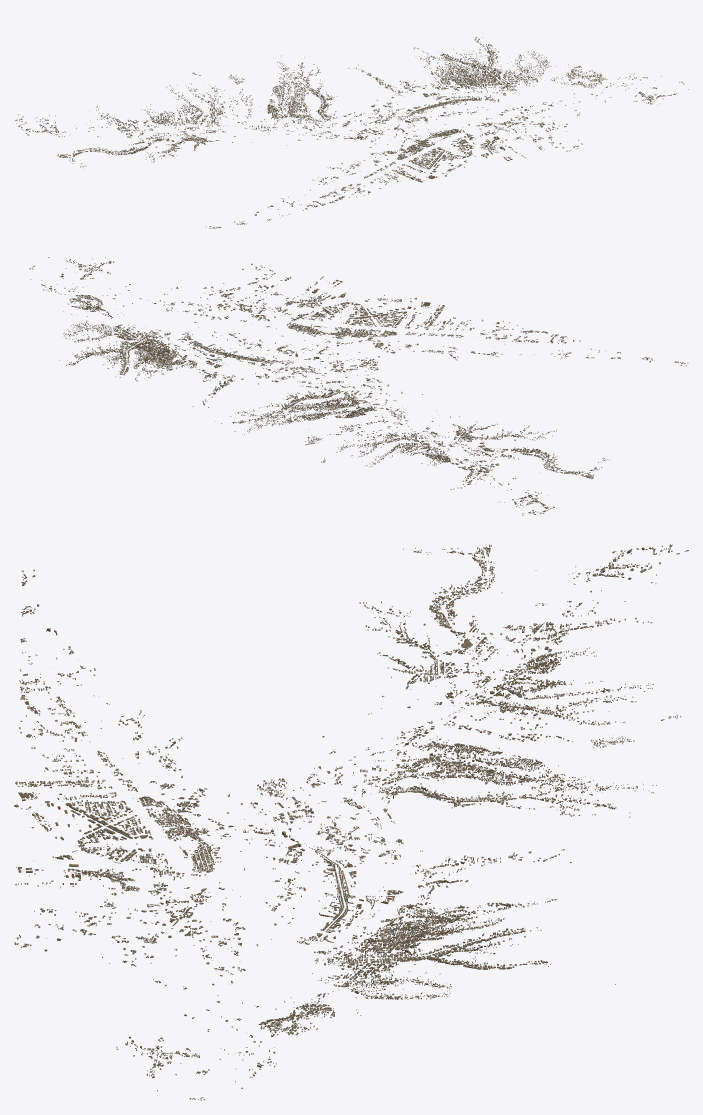
The model's file is buildings.glb.
3 renders of one model, top to bottom at view 1: azimuth 30°, elevation 25°; view 2: azimuth 150°, elevation 25°; view 3: azimuth 270°, elevation 25°, orthographic. The views are drawn at different scales.
Visible parts, largest first — view 1: Buildings_4_0Export, Buildings_3_0Export, Buildings_-2_0Export, Buildings_4_-1Export; view 2: Buildings_4_0Export, Buildings_0_-4Export, Buildings_4_-1Export, Buildings_3_0Export, Buildings_-2_0Export; view 3: Buildings_4_0Export, Buildings_-2_0Export, Buildings_3_0Export, Buildings_4_-1Export, Buildings_0_-4Export, Buildings_5_-1Export, Buildings_-2_1Export, Buildings_-1_1Export.
Part boxes in pixels (bbox=[...]): Buildings_4_0Export: bbox=[453, 59, 499, 82]; Buildings_3_0Export: bbox=[431, 65, 468, 89]; Buildings_-2_0Export: bbox=[272, 102, 315, 124]; Buildings_4_-1Export: bbox=[470, 75, 515, 96]; Buildings_4_0Export: bbox=[113, 342, 164, 362]; Buildings_0_-4Export: bbox=[335, 316, 385, 339]; Buildings_4_-1Export: bbox=[131, 331, 182, 352]; Buildings_3_0Export: bbox=[147, 353, 197, 371]; Buildings_-2_0Export: bbox=[322, 395, 375, 414]; Buildings_4_0Export: bbox=[396, 924, 466, 960]; Buildings_-2_0Export: bbox=[396, 747, 466, 781]; Buildings_3_0Export: bbox=[396, 903, 467, 932]; Buildings_4_-1Export: bbox=[327, 932, 398, 964]; Buildings_0_-4Export: bbox=[116, 808, 188, 839]; Buildings_5_-1Export: bbox=[326, 960, 396, 991]; Buildings_-2_1Export: bbox=[465, 746, 536, 775]; Buildings_-1_1Export: bbox=[465, 772, 536, 805].
Size of the model in its own units: 10974 by 272 by 5811.
